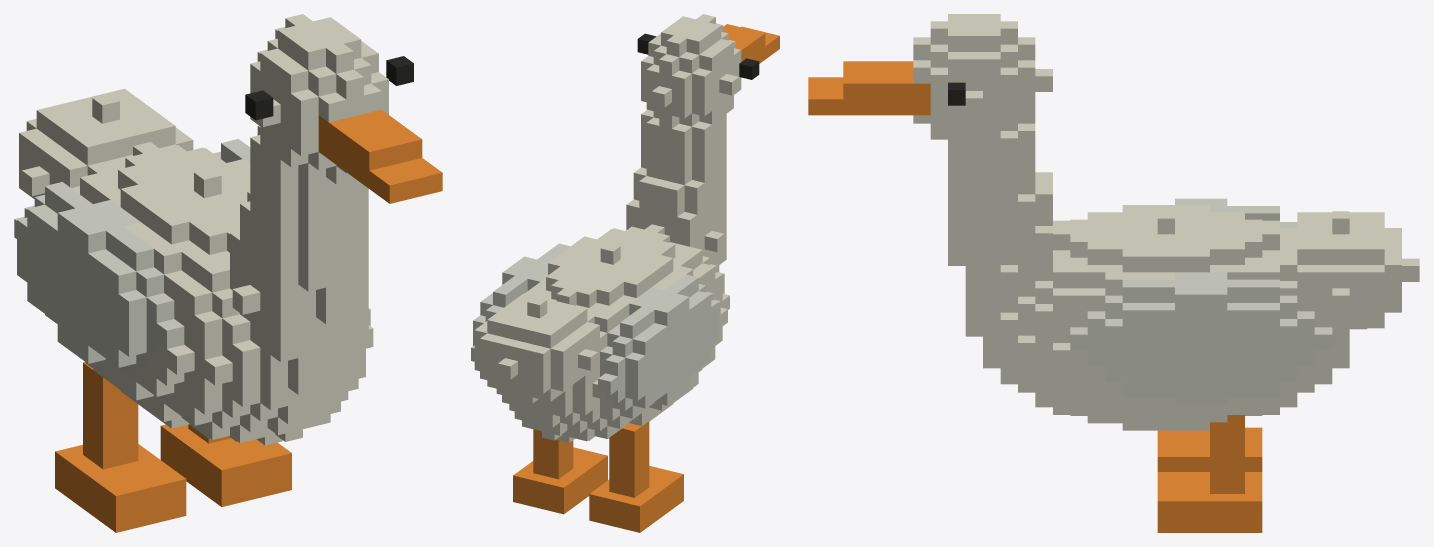
File: Goose.obj
The picture shows the model from 3 angles, left to right: view 1: azimuth 30°, elevation 25°; view 2: azimuth 150°, elevation 25°; view 3: azimuth 270°, elevation 25°; orthographic projection. The views are drawn at different scales.
Visible parts, largest first — view 1: Goose; view 2: Goose; view 3: Goose.
Part boxes in pixels (box(x1,y1,x2,y2)): Goose: box(14, 14, 442, 532); Goose: box(471, 14, 779, 532); Goose: box(808, 14, 1419, 532).
Bounding box in the file's own units: 0.52 × 1.2 × 1.4.
